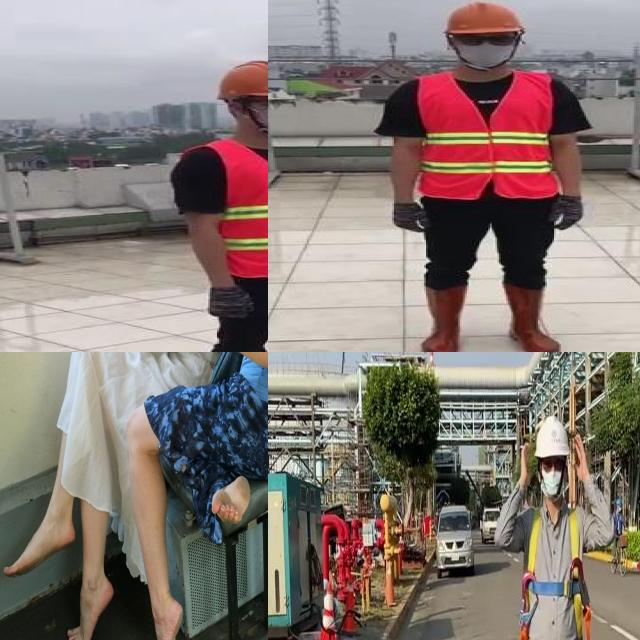Barefoots: (3, 518, 76, 578), (67, 575, 113, 640), (212, 476, 250, 524), (156, 598, 183, 640)
Harness: (521, 509, 593, 640)
boots: (502, 283, 566, 352), (417, 283, 465, 352)
face_mask: (449, 32, 520, 68), (242, 93, 268, 133)
glasses: (452, 30, 518, 50)
hand_glove: (202, 284, 253, 322), (549, 194, 591, 233), (389, 203, 431, 234)
head_helmet: (442, 0, 527, 36), (213, 55, 268, 100)
person: (379, 0, 587, 352), (165, 52, 268, 352)
vest: (415, 75, 556, 200), (183, 134, 268, 278)
